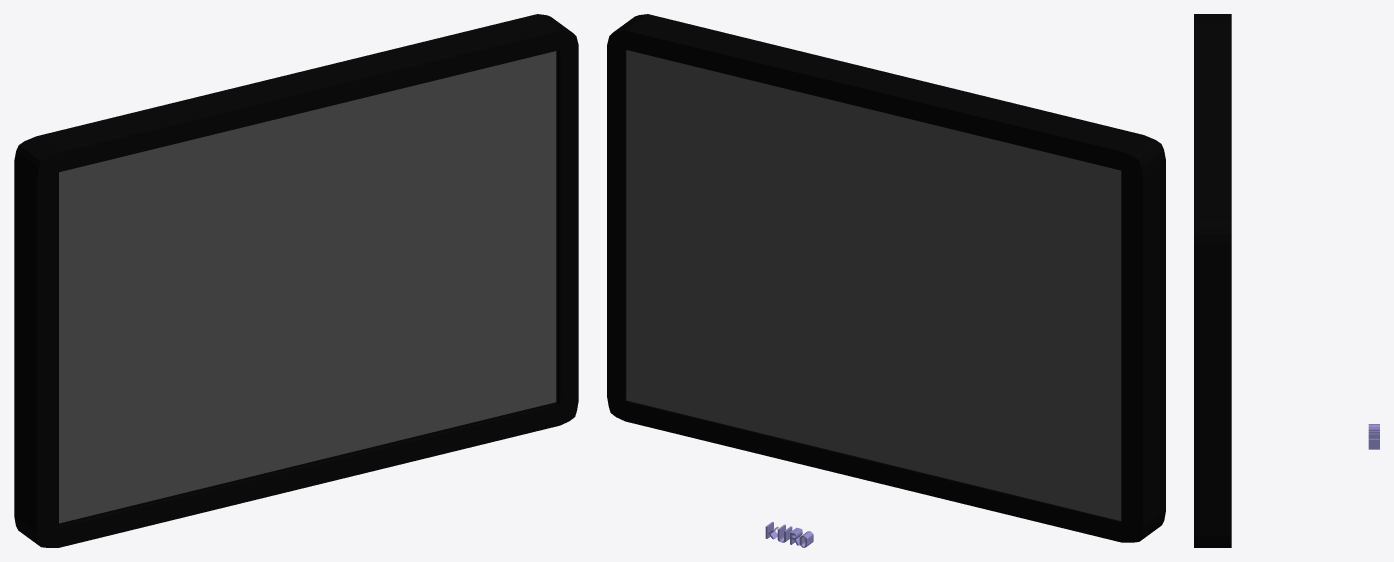
File: Moniter.fbx
3 renders of one model, left to right at view 1: azimuth 30°, elevation 25°; view 2: azimuth 150°, elevation 25°; view 3: azimuth 270°, elevation 25°, orthographic. The views are drawn at different scales.
Parts seen in each view (by area): view 1: 平面, 立方体; view 2: 平面, 立方体, 立方体.007; view 3: 立方体, 立方体.007.
Boxes of the visible parts, x1,y1,x2,y2 form: 平面: [59, 51, 556, 523]; 立方体: [14, 14, 578, 547]; 平面: [626, 50, 1121, 520]; 立方体: [607, 14, 1165, 542]; 立方体.007: [765, 522, 813, 547]; 立方体: [1194, 14, 1231, 547]; 立方体.007: [1368, 424, 1379, 449].
Size of the model in its own units: 900 by 627 by 323.
